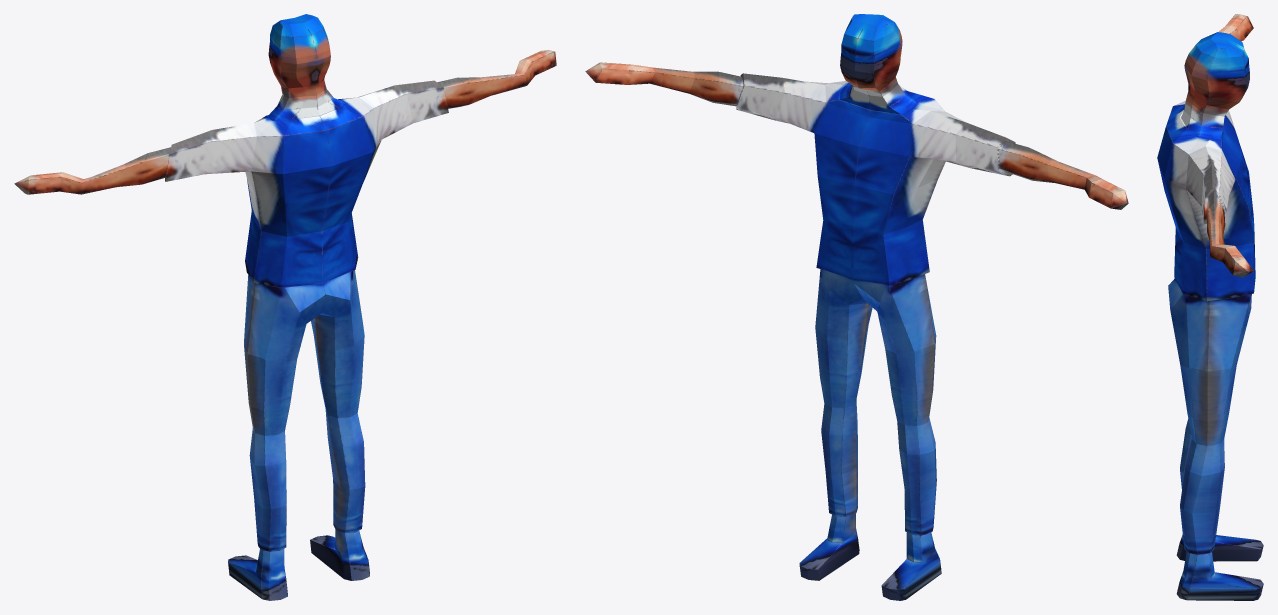
Rendered from Man.fbx.
The picture shows the model from 3 angles, left to right: view 1: azimuth 30°, elevation 25°; view 2: azimuth 150°, elevation 25°; view 3: azimuth 270°, elevation 25°; orthographic projection. The views are drawn at different scales.
Parts seen in each view (by area): view 1: Circle; view 2: Circle; view 3: Circle.
Boxes of the visible parts, x1=… form: Circle: x1=14, y1=14, x2=556, y2=600; Circle: x1=585, y1=14, x2=1128, y2=600; Circle: x1=1157, y1=14, x2=1263, y2=600.
Size of the model in its own units: 293 by 287 by 51.55.
